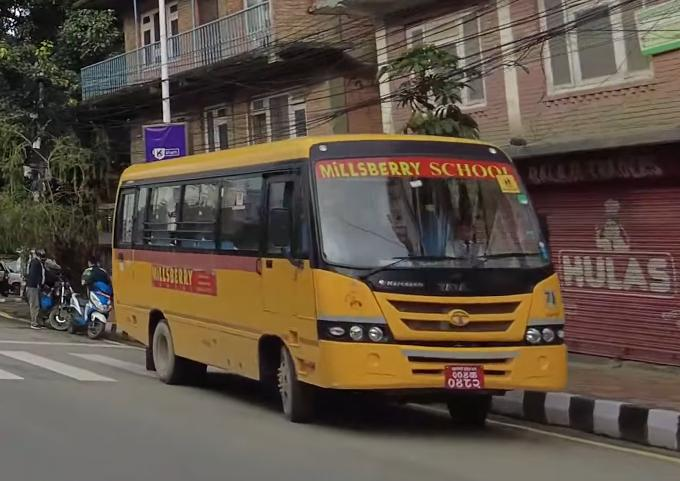school_bus: (103, 126, 578, 436)
scooter: (67, 281, 111, 340)
